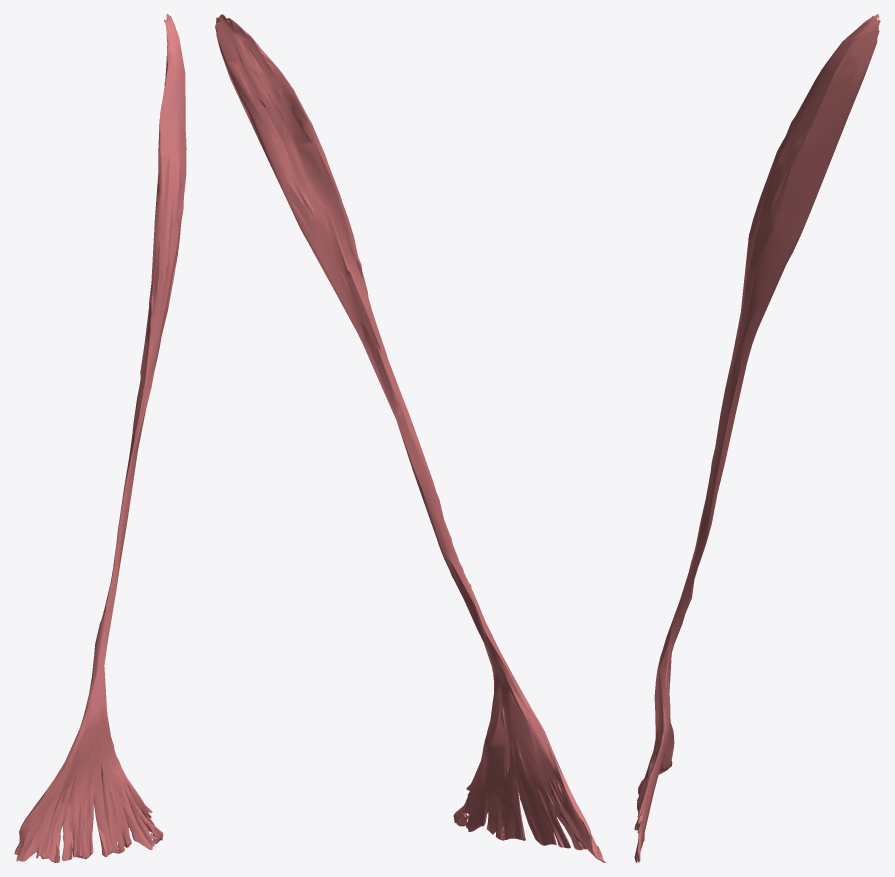
The picture shows the model from 3 angles, left to right: view 1: azimuth 30°, elevation 25°; view 2: azimuth 150°, elevation 25°; view 3: azimuth 270°, elevation 25°; orthographic projection. The views are drawn at different scales.
Visible parts, largest first — view 1: FJ1502; view 2: FJ1502; view 3: FJ1502.
Boxes of the visible parts, x1,y1,x2,y2 form: FJ1502: (14, 14, 186, 862); FJ1502: (215, 14, 605, 862); FJ1502: (634, 14, 880, 862).
Bounding box in the file's own units: 0.1106 × 0.3191 × 0.0777.
